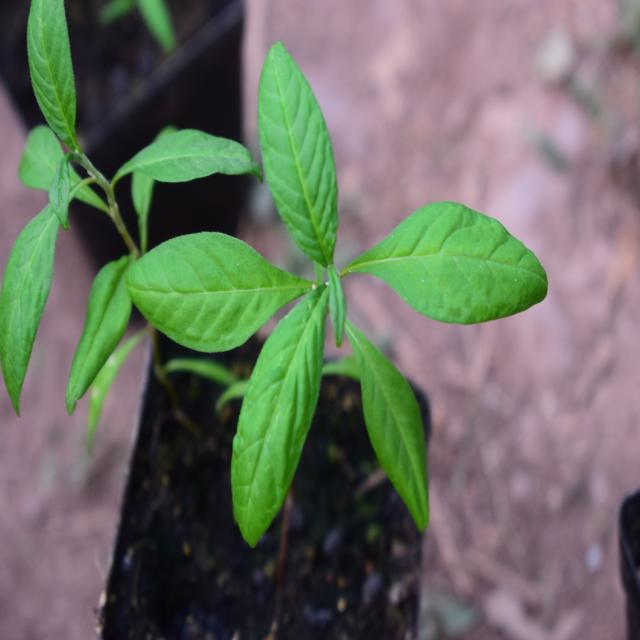white_smart_weed: (142, 8, 514, 560)
